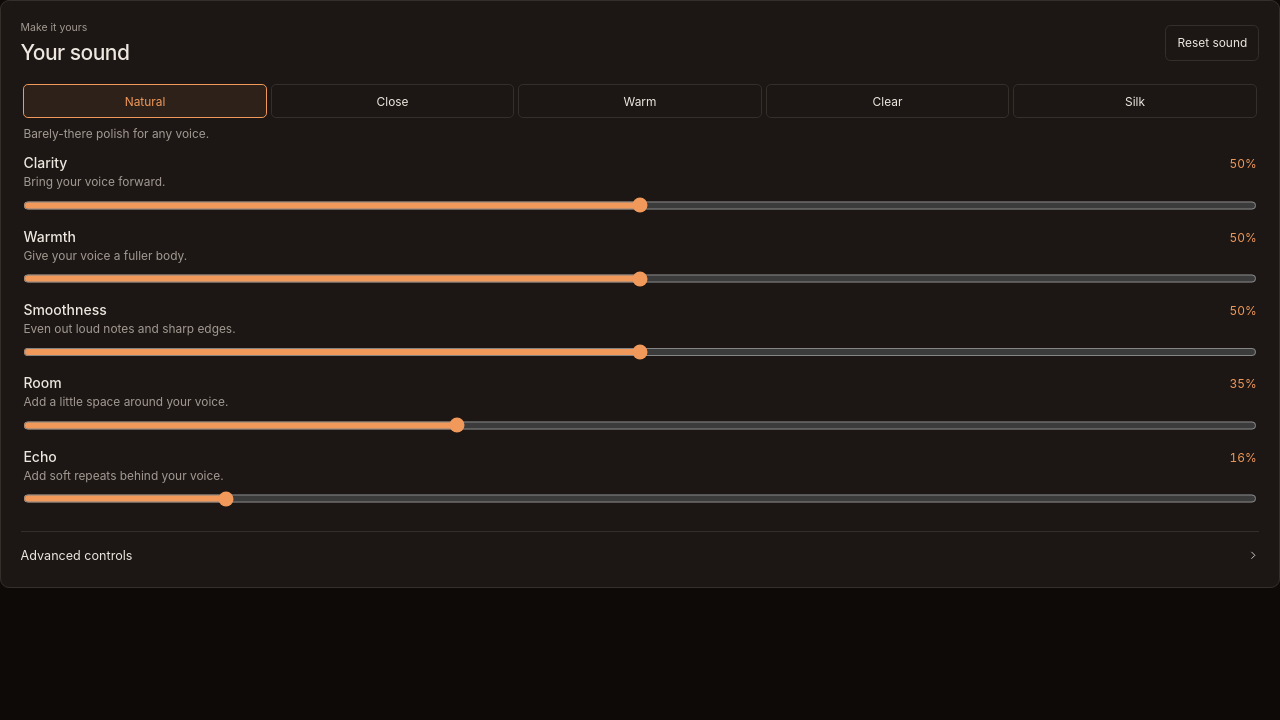
Test: EffectControls › closes the detailed controls without changing the main sound desk
Step 1. Click the button "Advanced controls" → (77, 555), box [21, 531, 1259, 567]
(page scrolled)
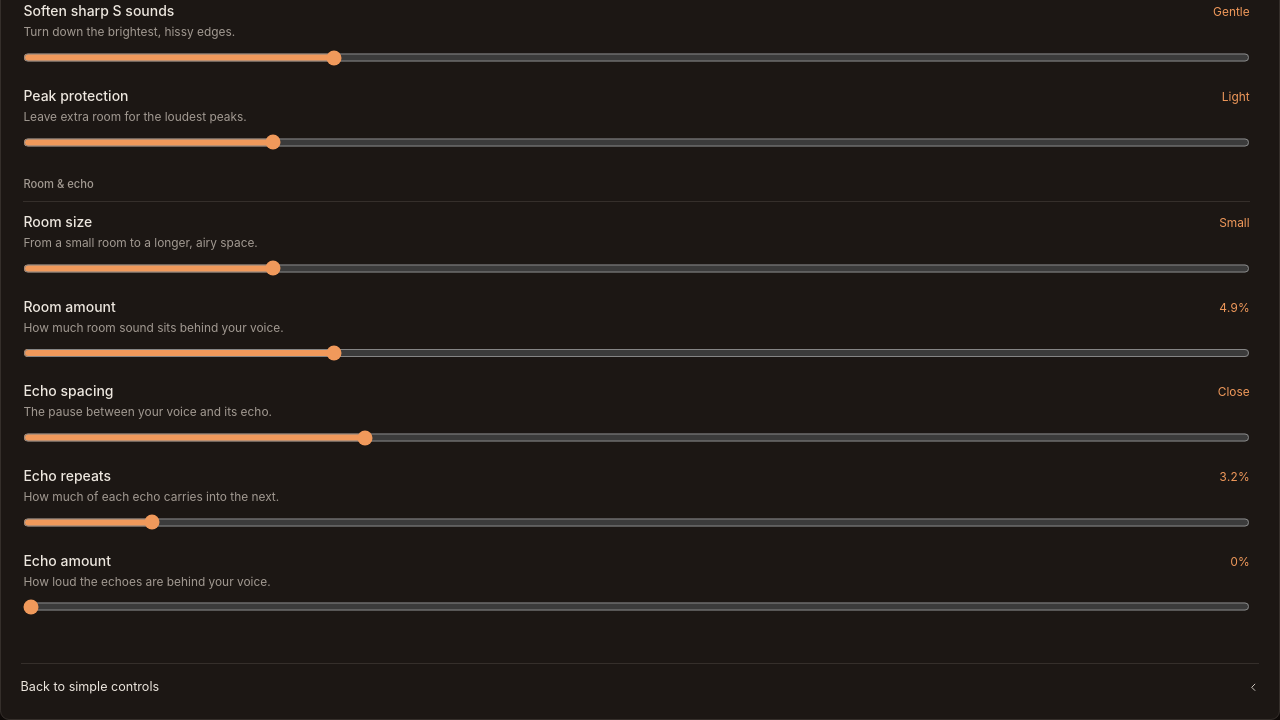
Step 2. Click the button "Back to simple controls" → (90, 687), box [21, 663, 1259, 699]
(page scrolled)
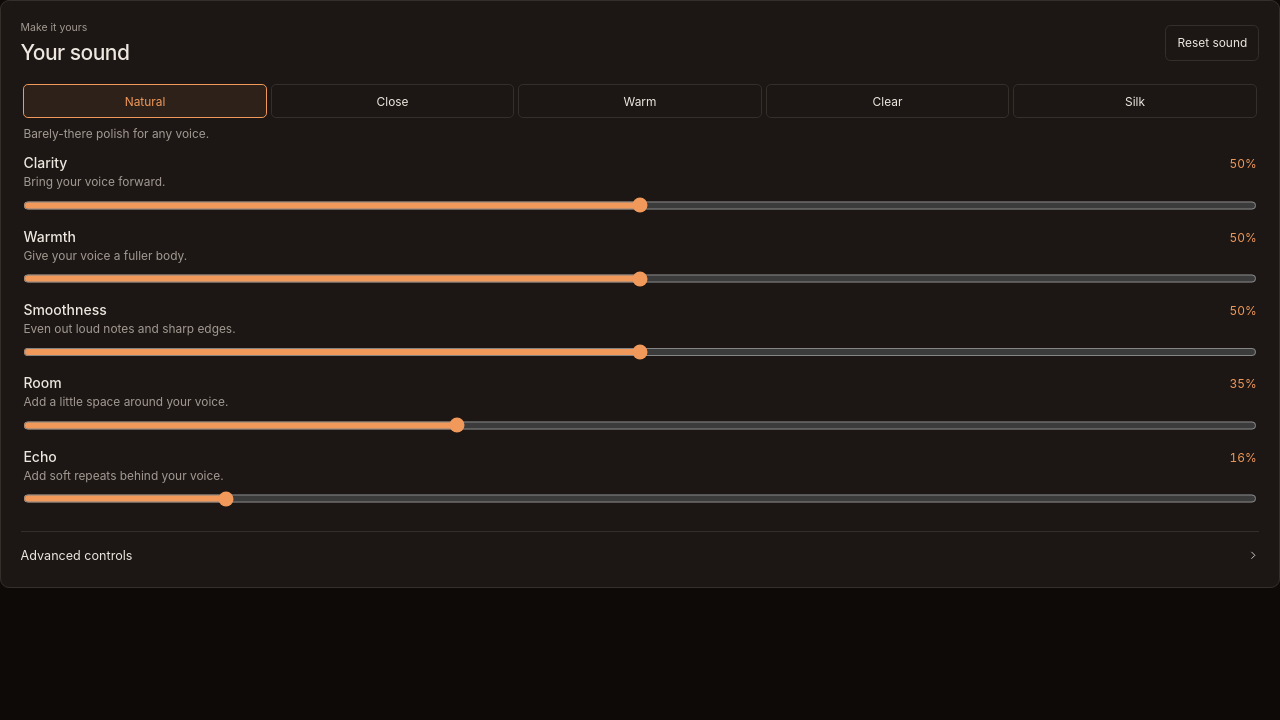
Expected: the button "Advanced controls" is collapsed, [21, 531, 1259, 567]
